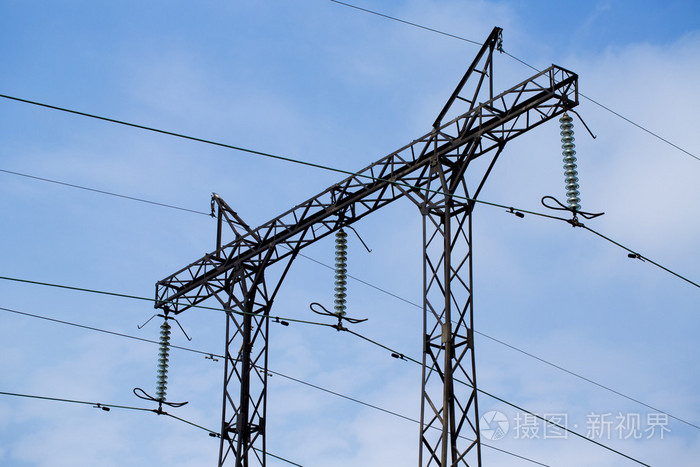insulator: (558, 115, 583, 210), (329, 228, 347, 317), (154, 322, 174, 400)
